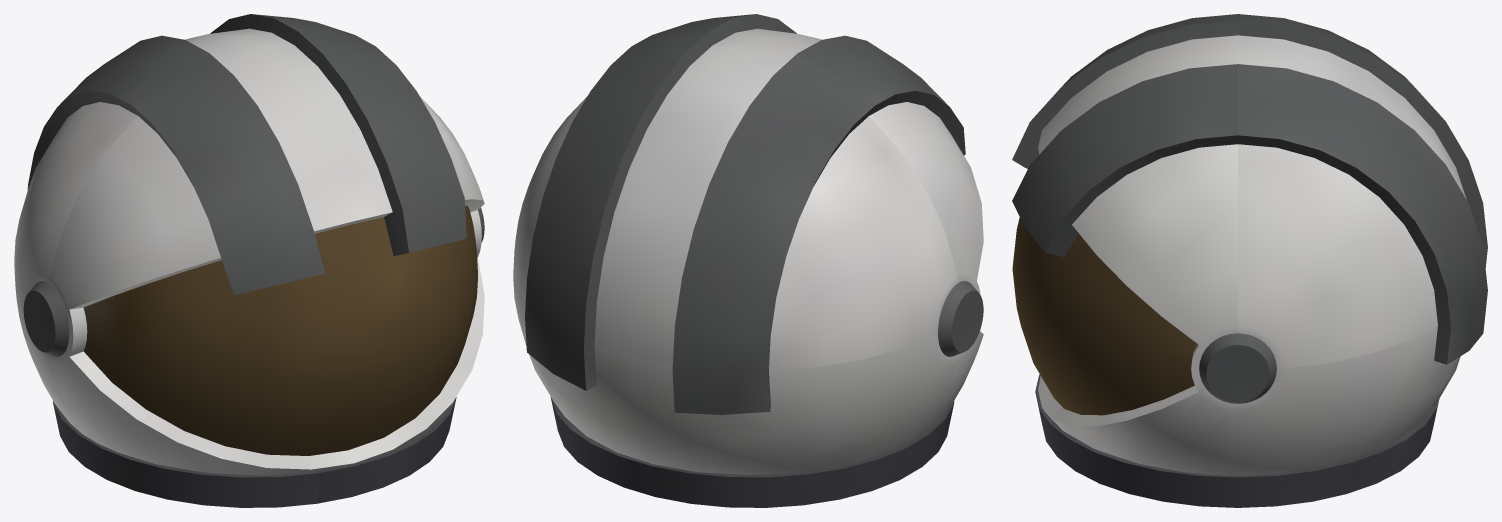
File: helmet.fbx
3 renders of one model, left to right at view 1: azimuth 30°, elevation 25°; view 2: azimuth 150°, elevation 25°; view 3: azimuth 270°, elevation 25°, orthographic.
Parts seen in each view (by area): view 1: Sphere.003; view 2: Sphere.003; view 3: Sphere.003.
Boxes of the visible parts, x1,y1,x2,y2 form: Sphere.003: [14, 14, 484, 507]; Sphere.003: [513, 14, 983, 507]; Sphere.003: [1012, 14, 1487, 507].
Bounding box in the file's own units: 0.3156 × 0.2689 × 0.303.
